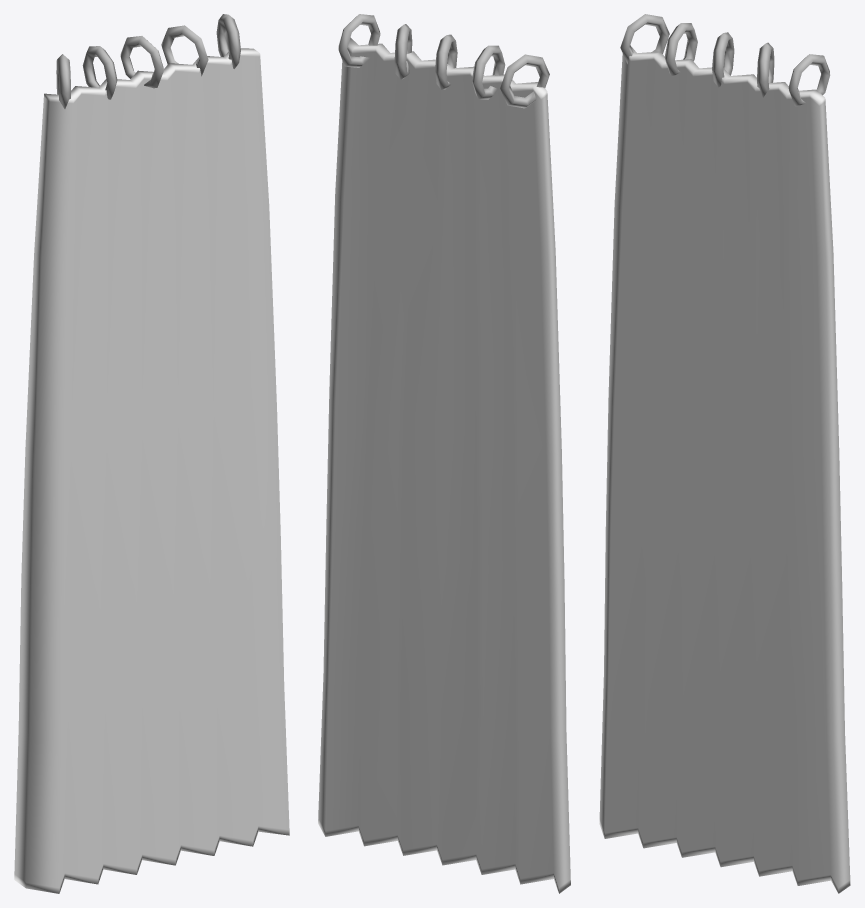
The model's file is curtain_019.fbx.
3 renders of one model, left to right at view 1: azimuth 30°, elevation 25°; view 2: azimuth 150°, elevation 25°; view 3: azimuth 330°, elevation 25°, orthographic.
Visible parts, largest first — view 1: curtain_019; view 2: curtain_019; view 3: curtain_019.
Part boxes in pixels (x1,y1,x2,y2): curtain_019: (14, 14, 289, 893); curtain_019: (318, 14, 570, 893); curtain_019: (599, 14, 850, 893).
Size of the model in its own units: 112 by 25.27 by 348.
